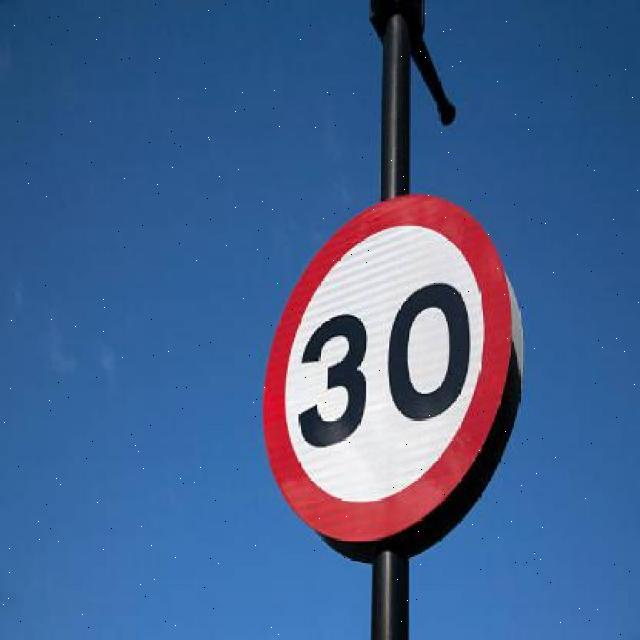speed limit 30: (260, 192, 515, 544)
